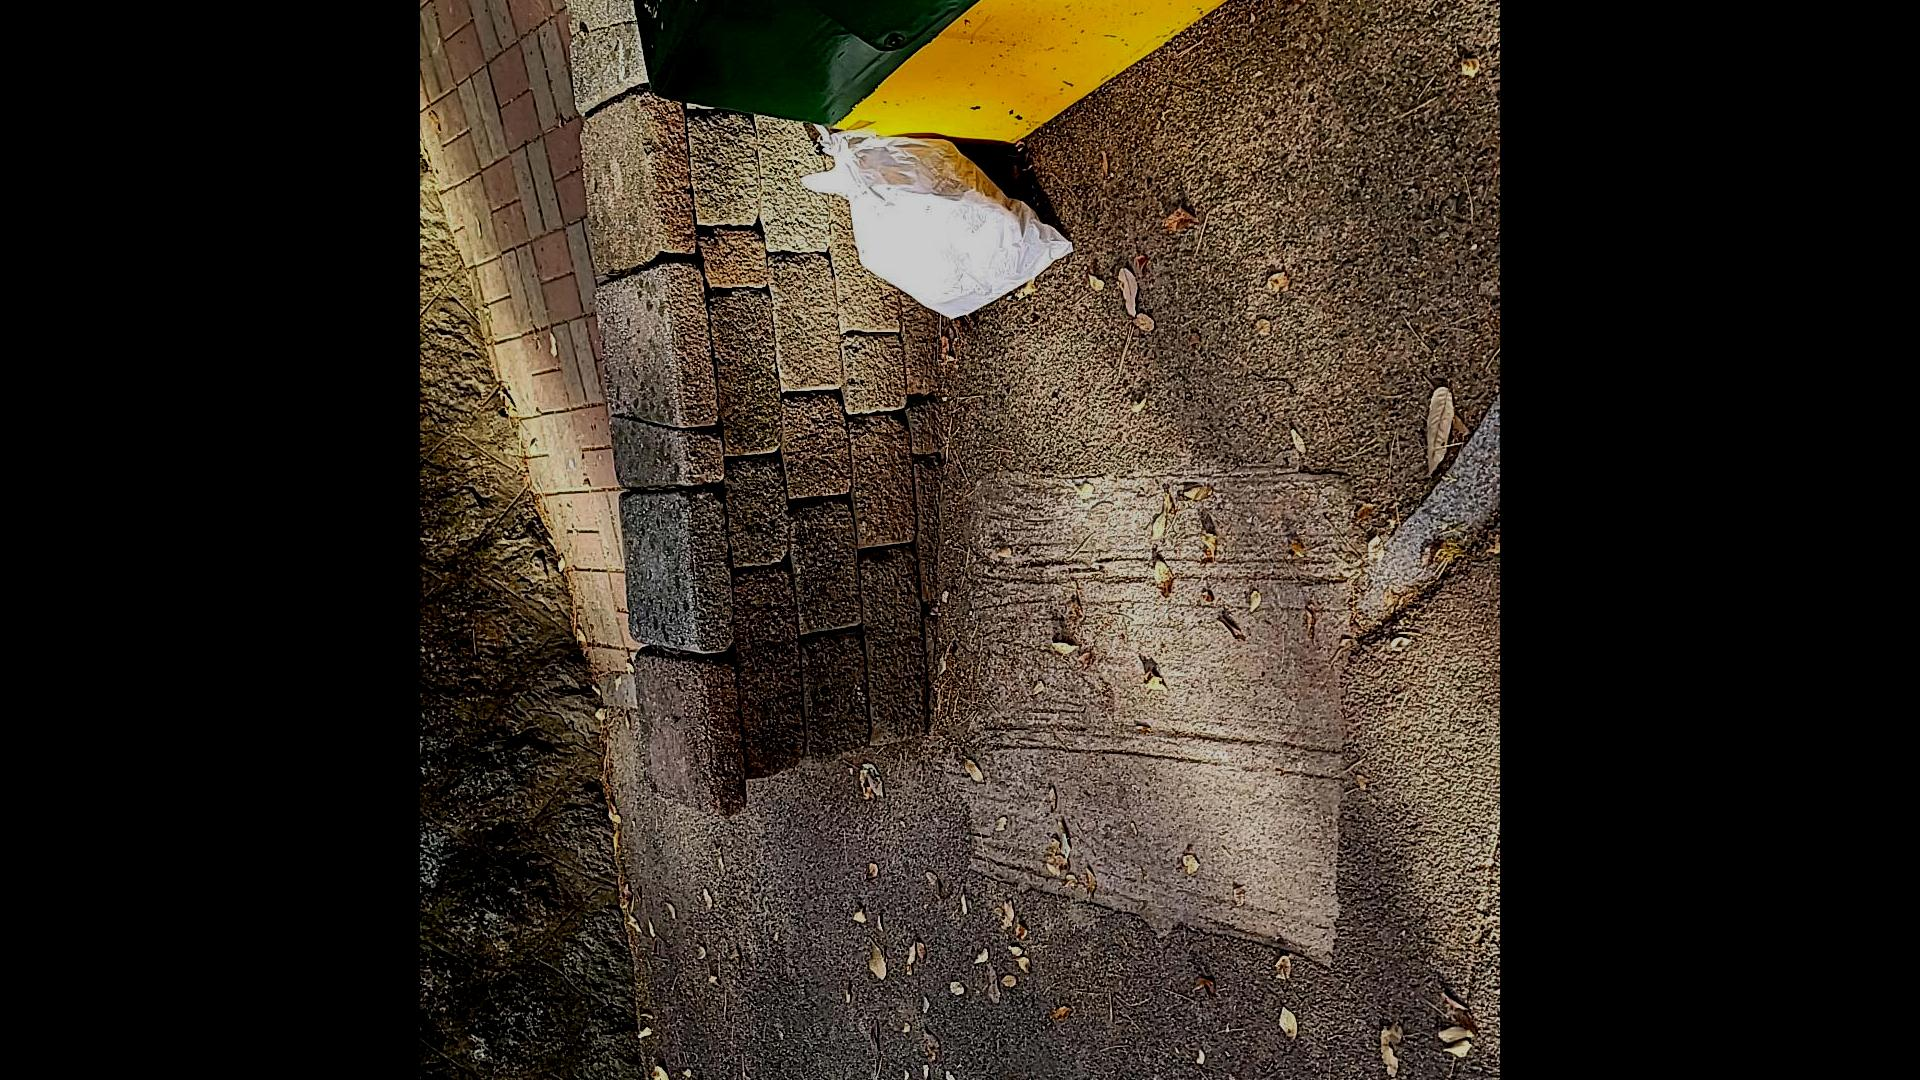white_bag: (774, 94, 1084, 342)
